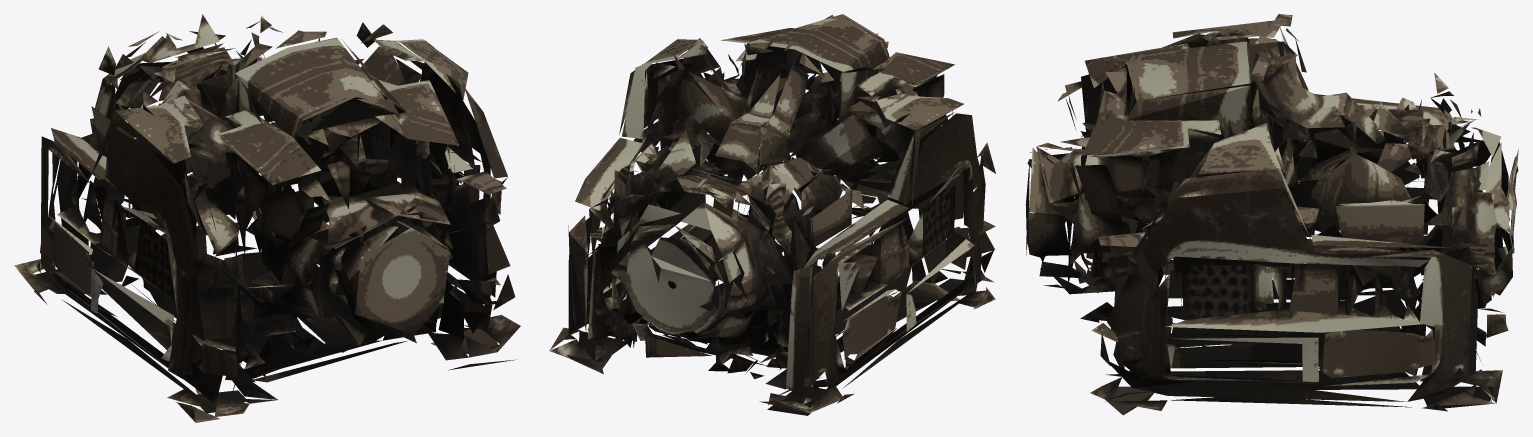
The model's file is co_flux.glb.
3 renders of one model, left to right at view 1: azimuth 30°, elevation 25°; view 2: azimuth 150°, elevation 25°; view 3: azimuth 270°, elevation 25°, orthographic. The views are drawn at different scales.
Visible parts, largest first — view 1: co_flux; view 2: co_flux; view 3: co_flux.
Part boxes in pixels (bbox=[...]): co_flux: bbox=[14, 14, 520, 422]; co_flux: bbox=[549, 14, 995, 415]; co_flux: bbox=[1025, 14, 1518, 415].
Bounding box in the file's own units: 0.1003 × 0.0881 × 0.1296.
1 material, 1 textured.
